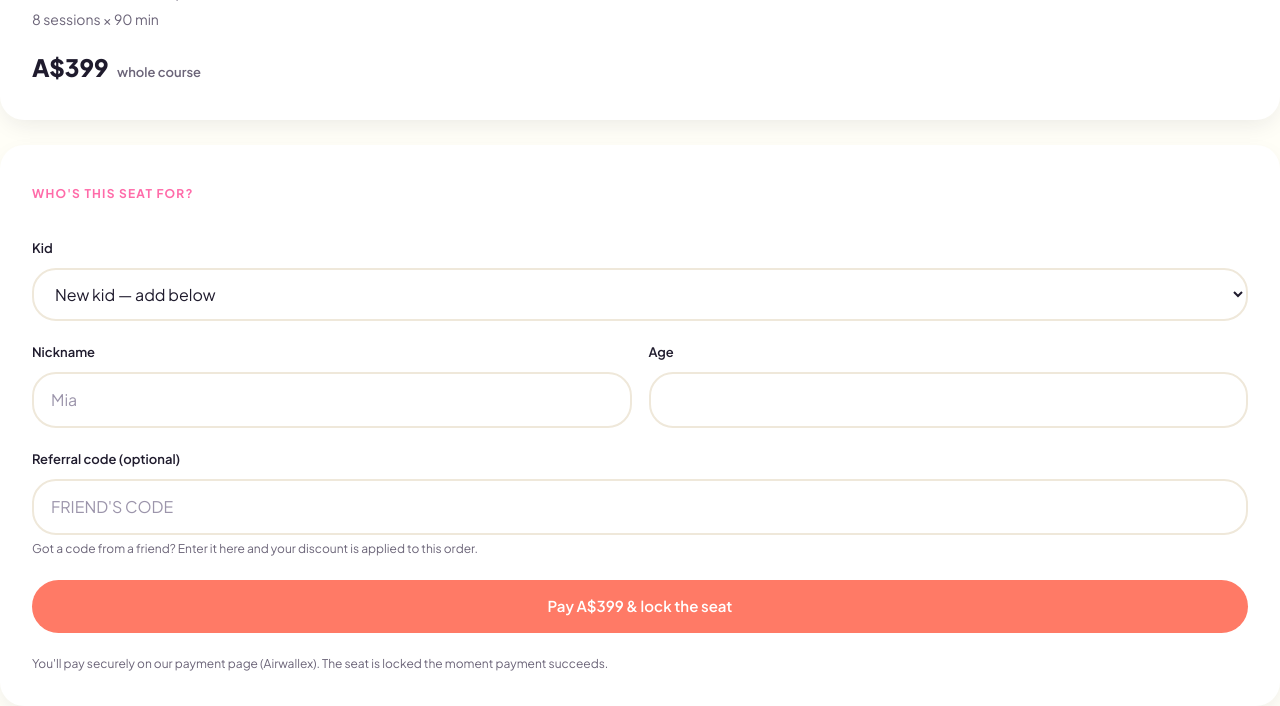
Scenario: ClassCheckoutPage › referral code entry (§7.2 rule 1) › says a bad code is unrecognised instead of silently ignoring it
(page scrolled)
Type "NOPE2345" into the field with placeholder "Friend's code".
click(640, 507); type("NOPE2345")  # box [32,479,1248,535]
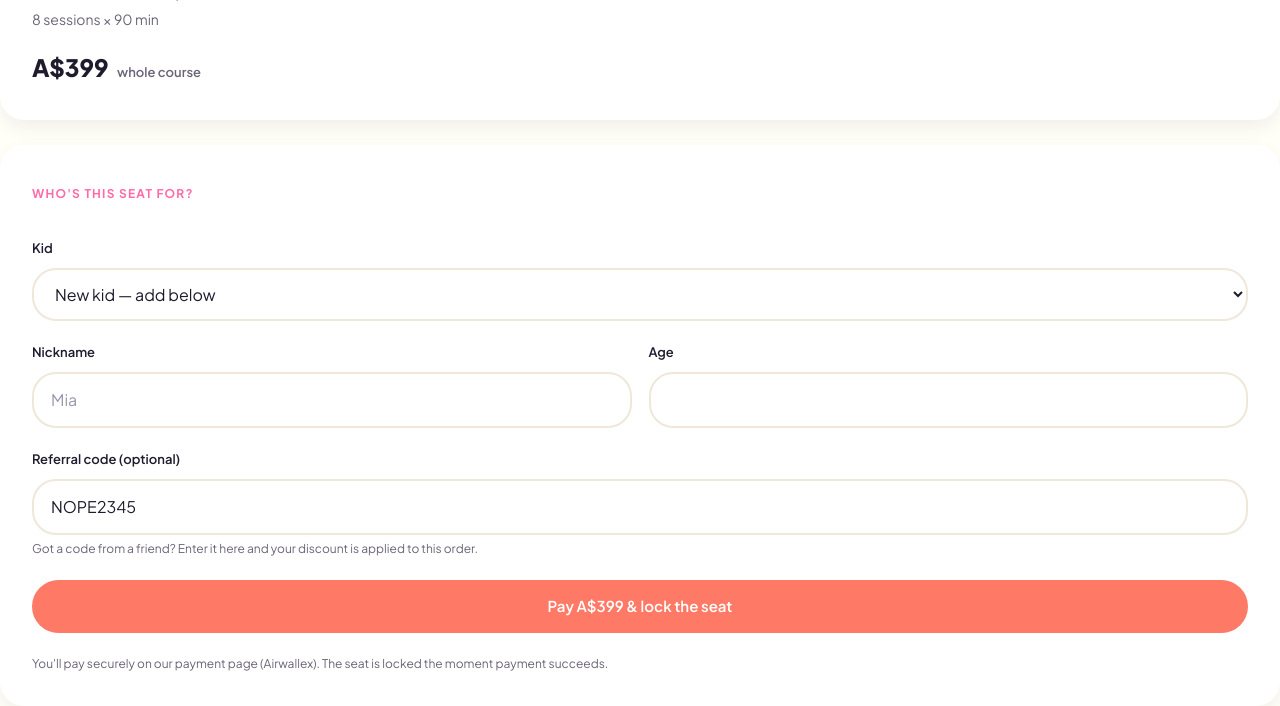
Leave the field with placeholder "Friend's code", box [32,479,1248,535]
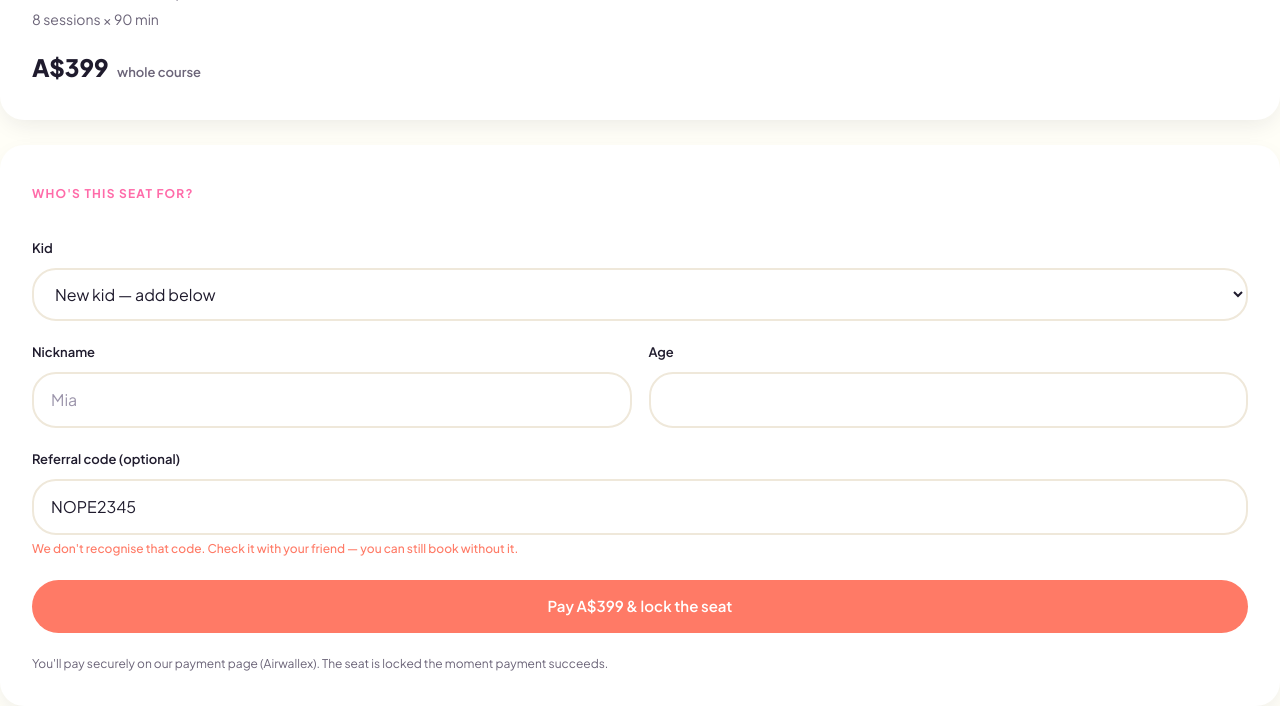
Expected: the button "Pay A$399 & lock the seat" is shown, [32,580,1248,633]
Expected: the text "don't recognise that code" is shown, [32,541,518,556]
